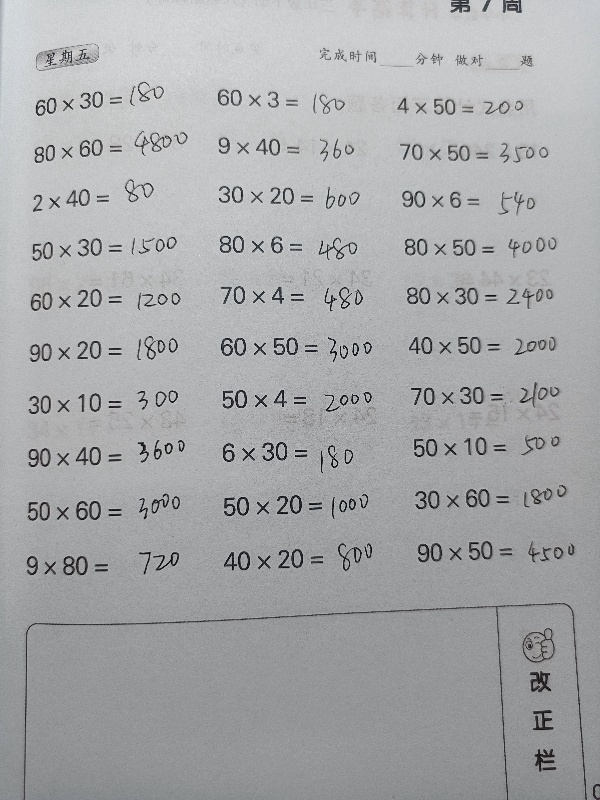equation: (213, 434, 393, 477), (214, 486, 394, 527), (211, 327, 391, 367), (25, 125, 205, 165), (210, 178, 390, 217), (26, 81, 206, 120), (397, 279, 577, 316), (392, 135, 572, 171), (18, 548, 198, 583), (214, 541, 394, 576), (408, 533, 588, 568), (18, 493, 198, 528), (19, 439, 199, 474), (213, 380, 393, 415), (23, 229, 203, 264), (406, 481, 586, 515), (404, 429, 584, 463), (19, 386, 199, 420), (20, 333, 200, 367), (21, 282, 201, 316), (213, 278, 393, 312), (402, 379, 582, 412), (400, 329, 580, 362), (396, 231, 576, 264), (210, 228, 390, 261), (393, 182, 573, 215), (24, 183, 204, 216), (209, 130, 389, 163), (208, 82, 388, 115), (395, 85, 535, 122)
